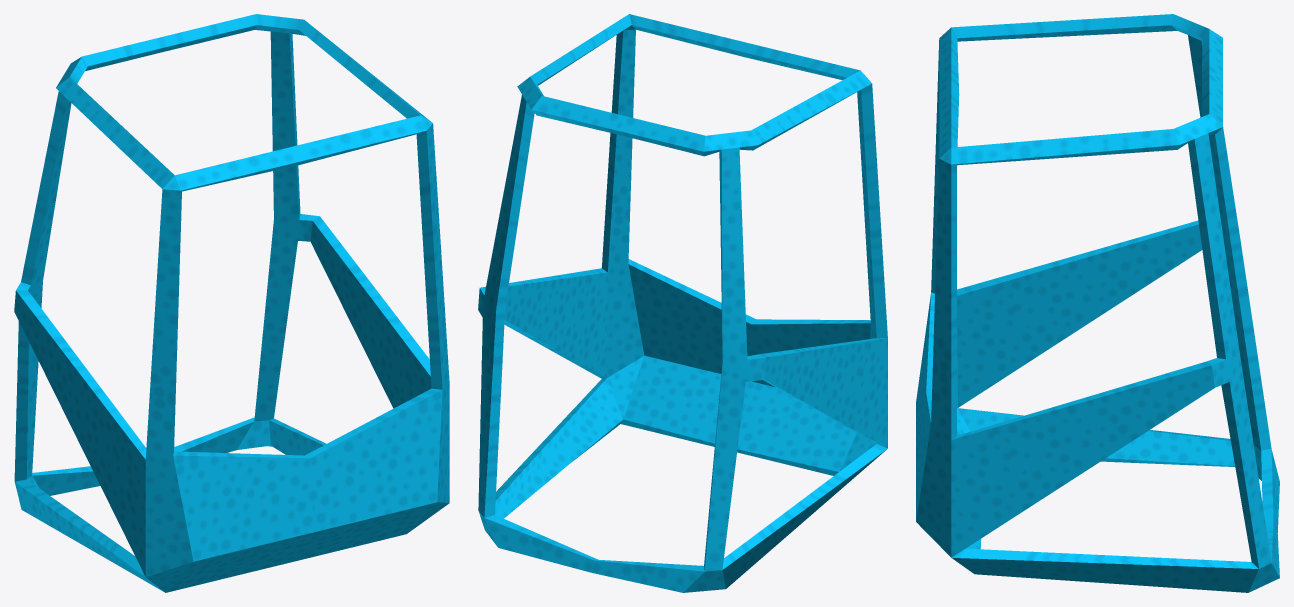
Rendered from Speaker_cage_2ndCol_LOD0.fbx.
The picture shows the model from 3 angles, left to right: view 1: azimuth 30°, elevation 25°; view 2: azimuth 150°, elevation 25°; view 3: azimuth 270°, elevation 25°; orthographic projection. The views are drawn at different scales.
Parts seen in each view (by area): view 1: Speaker_cage_2ndCol_LOD0; view 2: Speaker_cage_2ndCol_LOD0; view 3: Speaker_cage_2ndCol_LOD0.
Boxes of the visible parts, box(x1,y1,x2,y2) form: Speaker_cage_2ndCol_LOD0: box(14, 14, 449, 592); Speaker_cage_2ndCol_LOD0: box(478, 14, 887, 592); Speaker_cage_2ndCol_LOD0: box(916, 14, 1279, 592).
Bounding box in the file's own units: 94.56 × 138 × 97.75.
